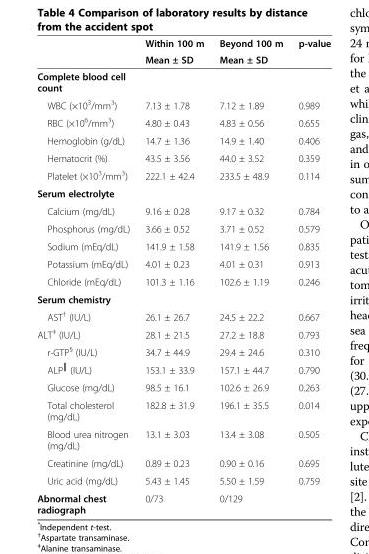table: (36, 37, 330, 515)
table column: (36, 37, 136, 515), (211, 37, 290, 515), (136, 37, 211, 515), (290, 37, 330, 515)
table column header: (36, 37, 330, 67)
table projected row header: (36, 67, 330, 95), (36, 184, 330, 202), (36, 290, 330, 307)
table row: (36, 396, 330, 425), (36, 425, 330, 454), (36, 67, 330, 95), (36, 489, 330, 515), (36, 359, 330, 378), (36, 95, 330, 113), (36, 113, 330, 131), (36, 131, 330, 149), (36, 166, 330, 184), (36, 184, 330, 202), (36, 219, 330, 237), (36, 254, 330, 272), (36, 272, 330, 290), (36, 324, 330, 342), (36, 378, 330, 396), (36, 471, 330, 489), (36, 149, 330, 166), (36, 202, 330, 219), (36, 237, 330, 254), (36, 290, 330, 307), (36, 307, 330, 324), (36, 342, 330, 359), (36, 454, 330, 471), (36, 51, 330, 67), (36, 37, 330, 51)
table spanning cell: (211, 37, 290, 67), (136, 37, 211, 67), (290, 37, 330, 67)
